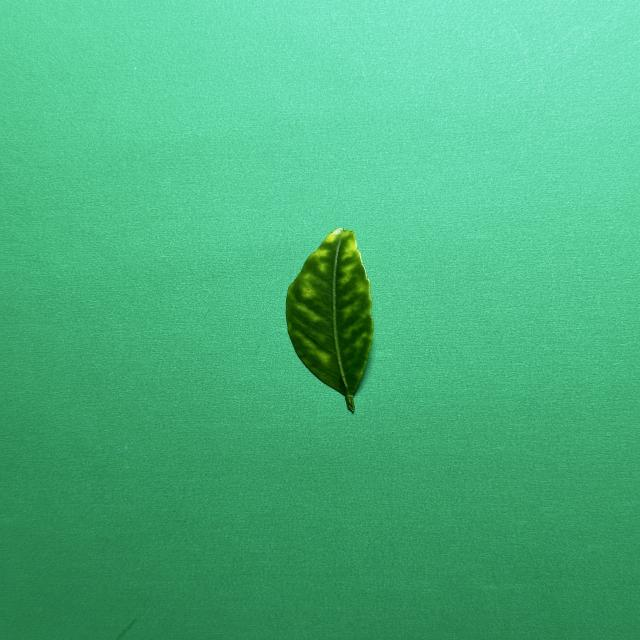greening: (286, 228, 373, 412)
